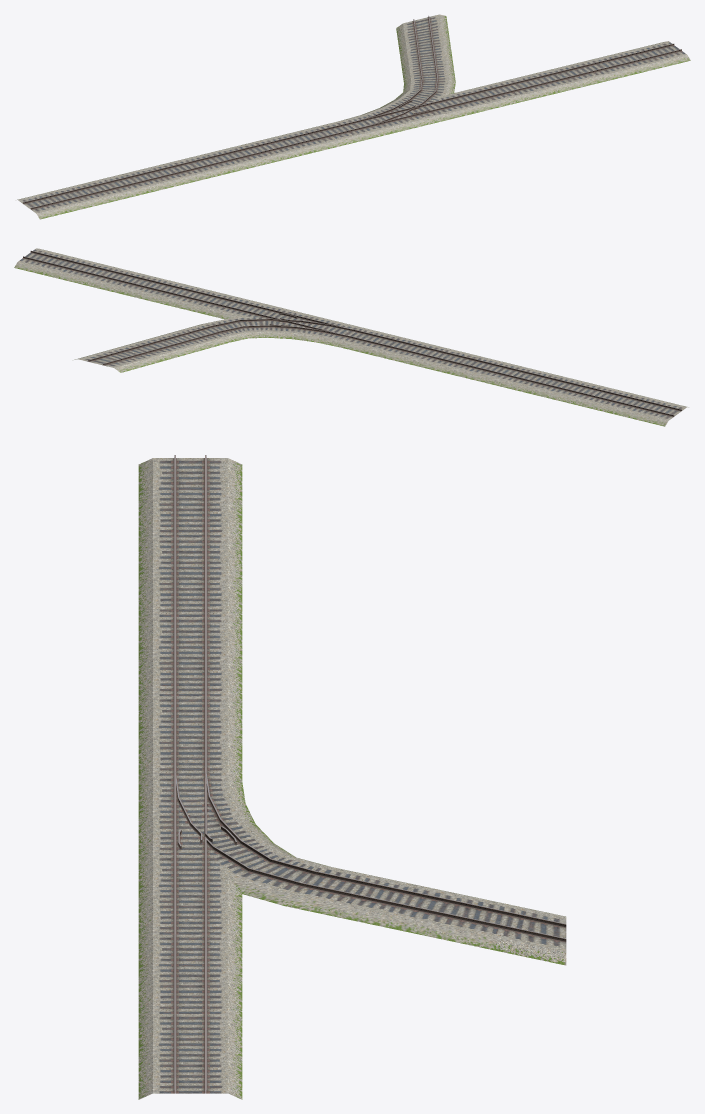
File: Tr_FPoints1Flip.fbx
3 renders of one model, top to bottom at view 1: azimuth 30°, elevation 25°; view 2: azimuth 150°, elevation 25°; view 3: azimuth 270°, elevation 25°, orthographic. The views are drawn at different scales.
Parts seen in each view (by area): view 1: U3DMesh; view 2: U3DMesh; view 3: U3DMesh.
Part boxes in pixels (box(x1,y1,x2,y2)): U3DMesh: box(17, 14, 690, 219); U3DMesh: box(14, 248, 688, 426); U3DMesh: box(138, 455, 566, 1099).
Size of the model in its own units: 64 by 0.4498 by 18.21.
